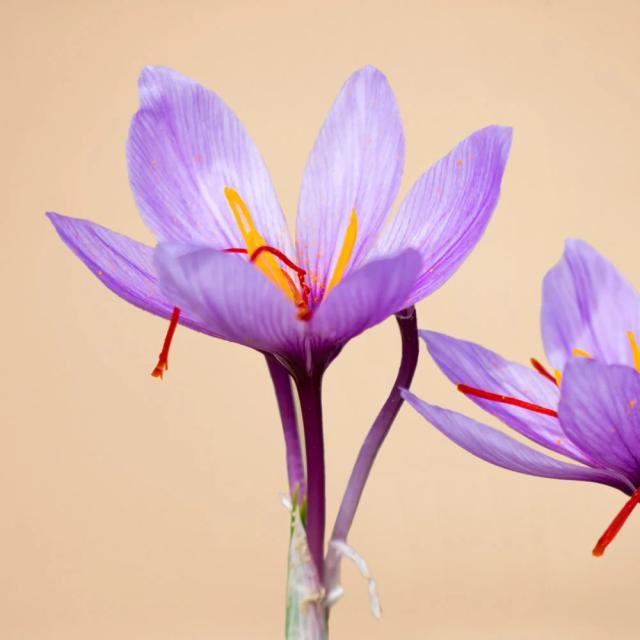Flower: (106, 78, 488, 368), (454, 297, 640, 488)
stigma: (455, 385, 559, 424), (589, 487, 640, 558), (147, 306, 187, 376), (250, 232, 304, 277)
